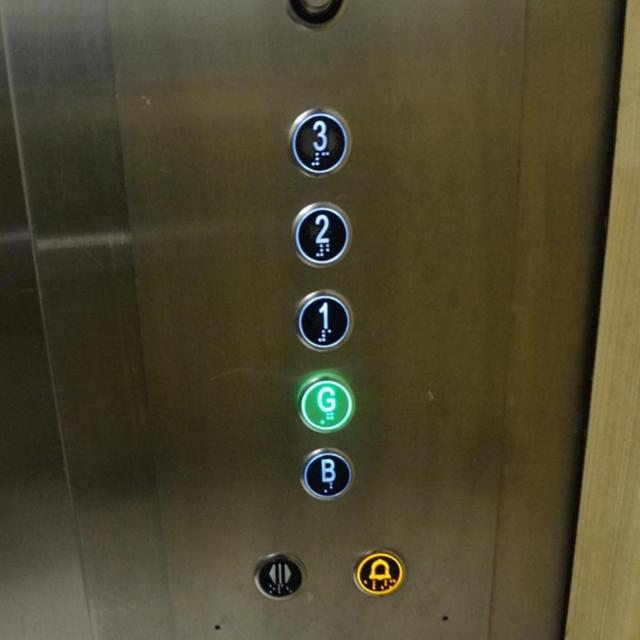1: (292, 287, 355, 353)
2: (289, 200, 353, 270)
3: (284, 105, 352, 179)
B: (297, 446, 355, 500)
G: (293, 369, 355, 435)
alarm: (348, 544, 404, 598)
open: (252, 550, 309, 602)
